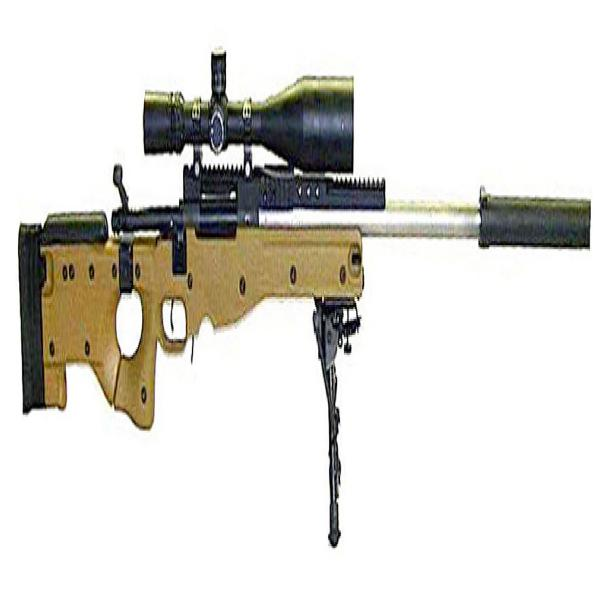Gun: (12, 40, 598, 450)
